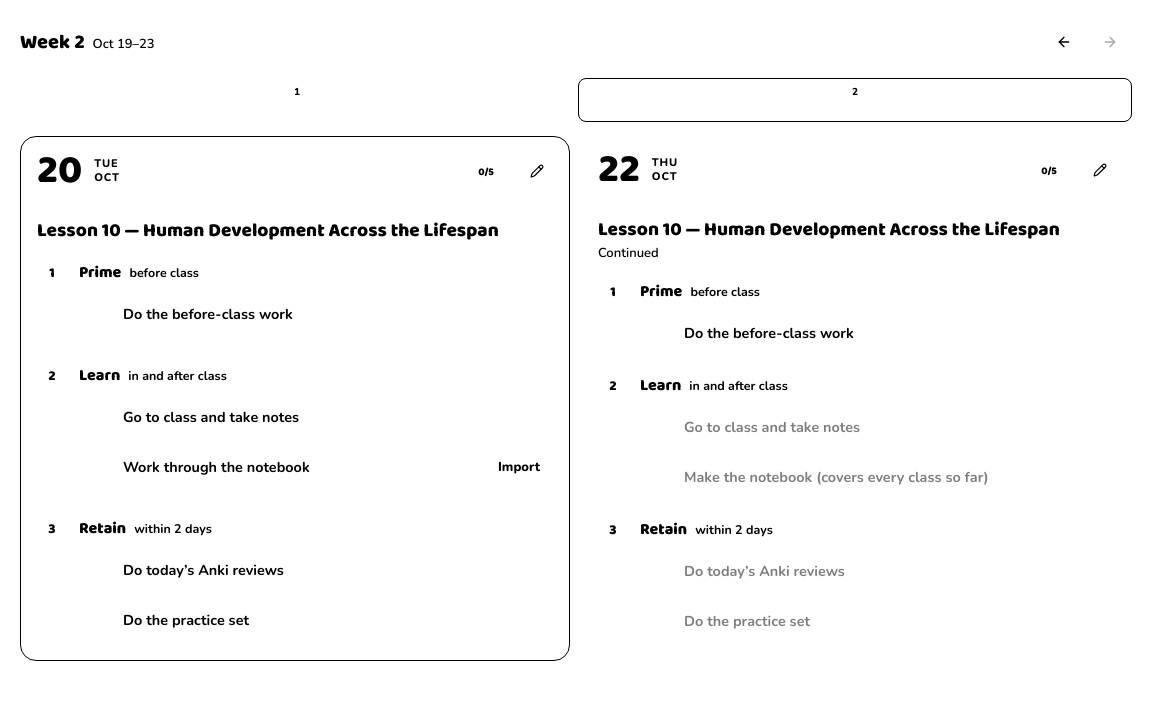
ClassDays › moves between weeks and jumps from the term strip
What coordinates should you click on to do the following:
click the button named "Previous week"
I would click on:
 (1064, 42)
Its box is [1042,20,1086,64].
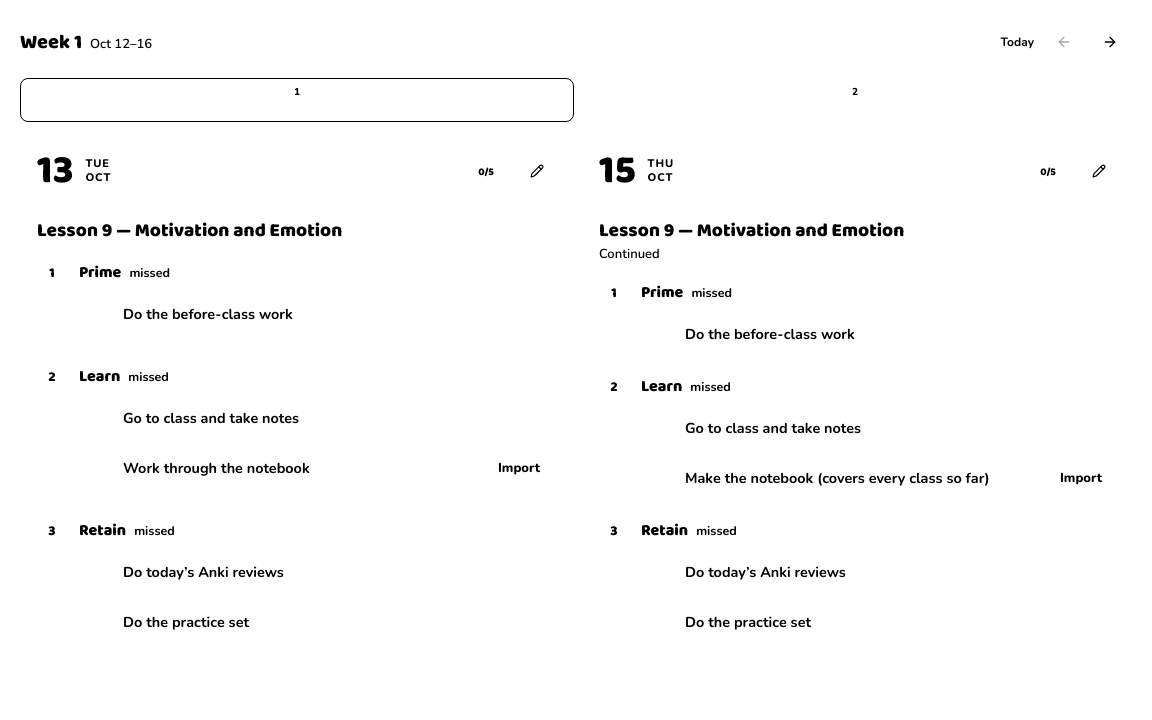
Expected: the heading "Lesson 9 — Motivation and Emotion" below "13" is shown, [37,216,342,246]
What coordinates should you click on to do the following:
click the button "2"
I would click on:
 (855, 100)
Its box is [578,78,1132,122].
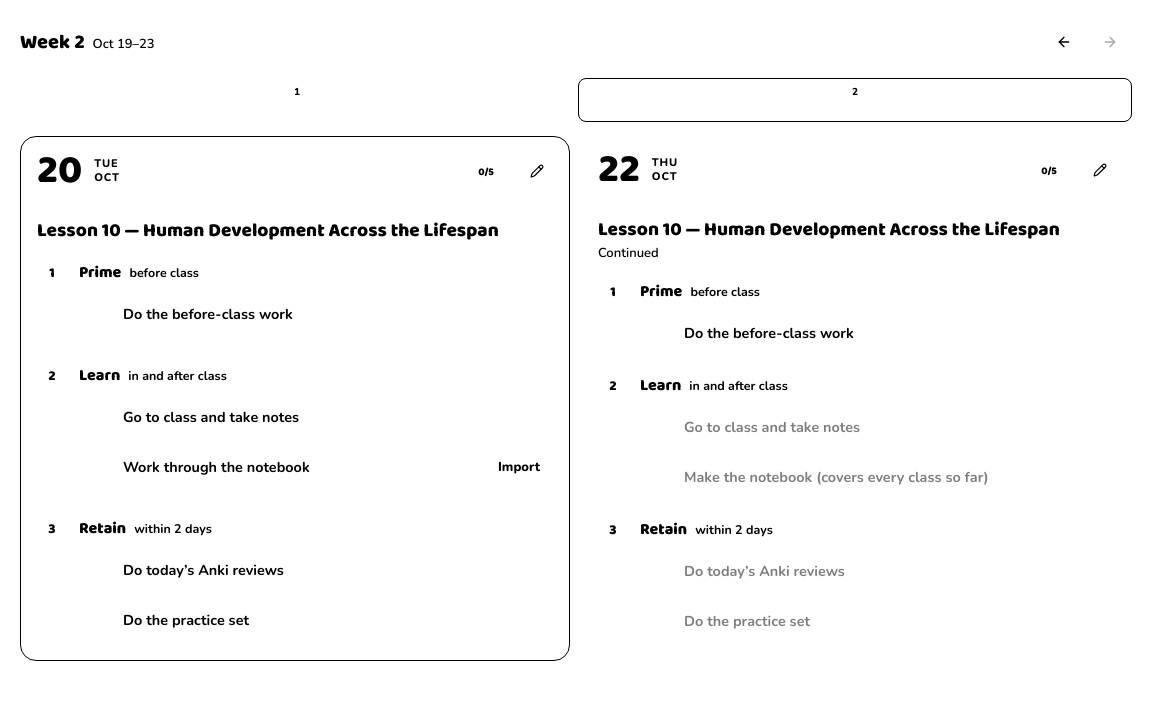
Expected: the heading "Lesson 10 — Human Development Across the Lifespan" below "20" is shown, [37,216,499,246]
